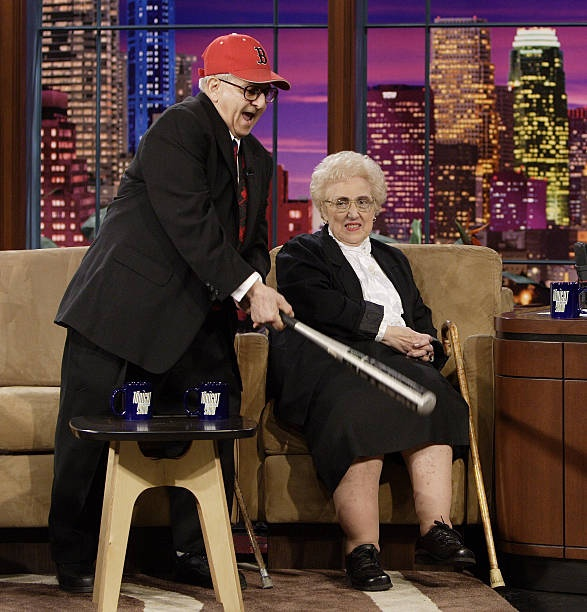bita: (275, 312, 436, 414)
